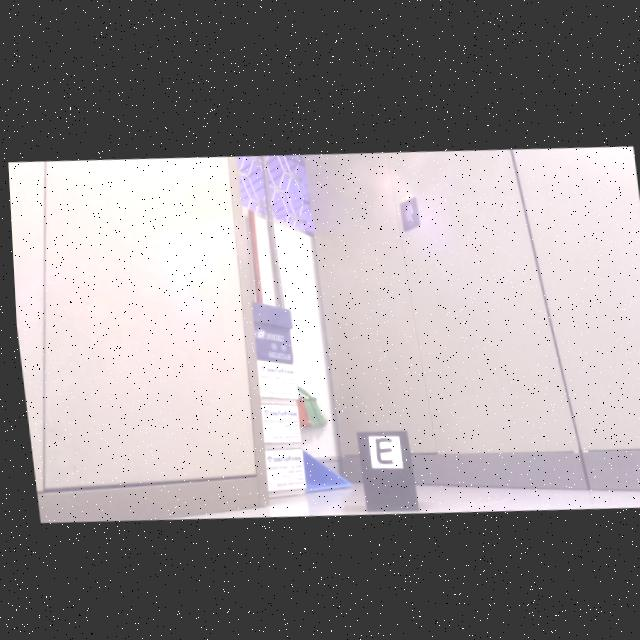E: (370, 434, 389, 462)
